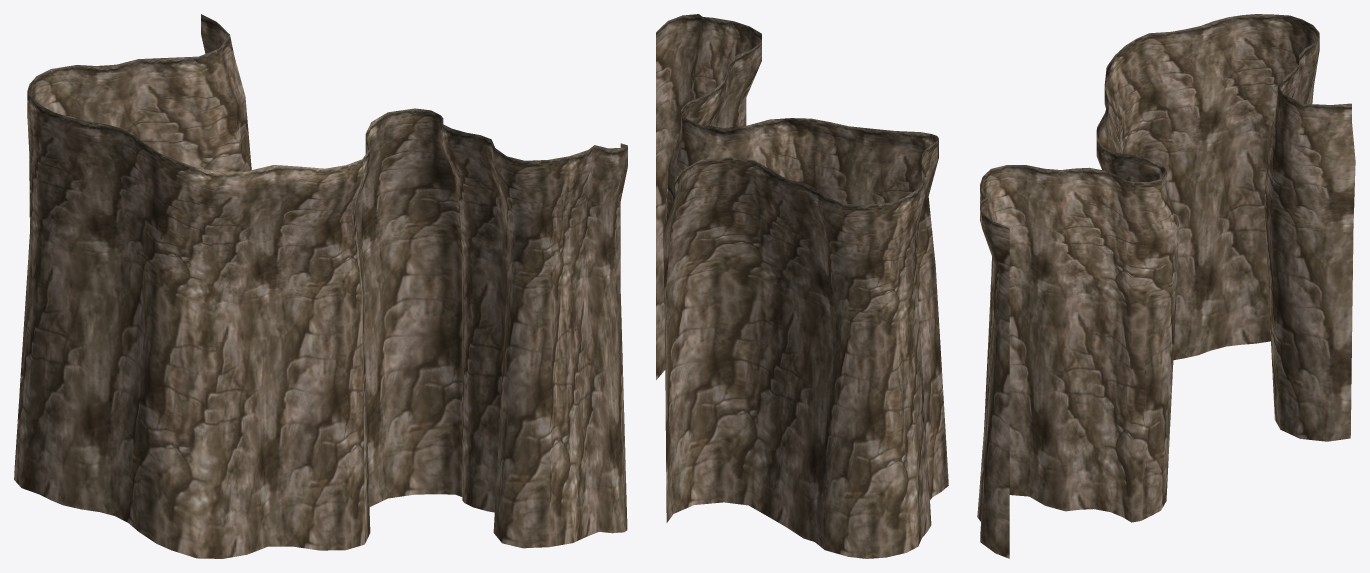
The model's file is OVERHILL_A_01_LINE70.fbx.
3 renders of one model, left to right at view 1: azimuth 30°, elevation 25°; view 2: azimuth 150°, elevation 25°; view 3: azimuth 270°, elevation 25°, orthographic. The views are drawn at different scales.
Parts seen in each view (by area): view 1: OVERHILL_A_01_LINE70; view 2: OVERHILL_A_01_LINE70; view 3: OVERHILL_A_01_LINE70.
Boxes of the visible parts, <box> form: OVERHILL_A_01_LINE70: <box>14,14,627,558</box>; OVERHILL_A_01_LINE70: <box>656,14,948,558</box>; OVERHILL_A_01_LINE70: <box>977,14,1355,558</box>.
Bounding box in the file's own units: 229592 × 211544 × 196947.
2 materials, 2 textured.
